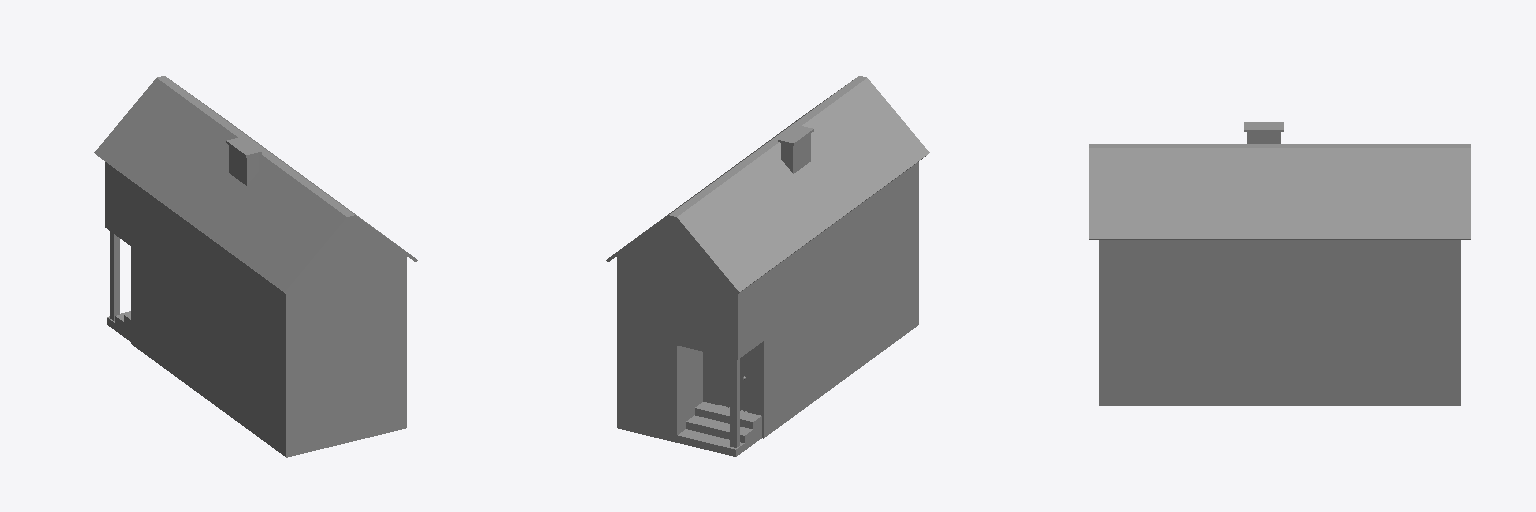
File: House1.obj
3 renders of one model, left to right at view 1: azimuth 30°, elevation 25°; view 2: azimuth 150°, elevation 25°; view 3: azimuth 270°, elevation 25°, orthographic.
Visible parts, largest first — view 1: Cube; view 2: Cube; view 3: Cube.
Boxes of the visible parts, <box> form: Cube: <box>94,76,417,457</box>; Cube: <box>606,76,929,456</box>; Cube: <box>1089,122,1470,405</box>.
Bounding box in the file's own units: 8.59 × 14.86 × 21.26.